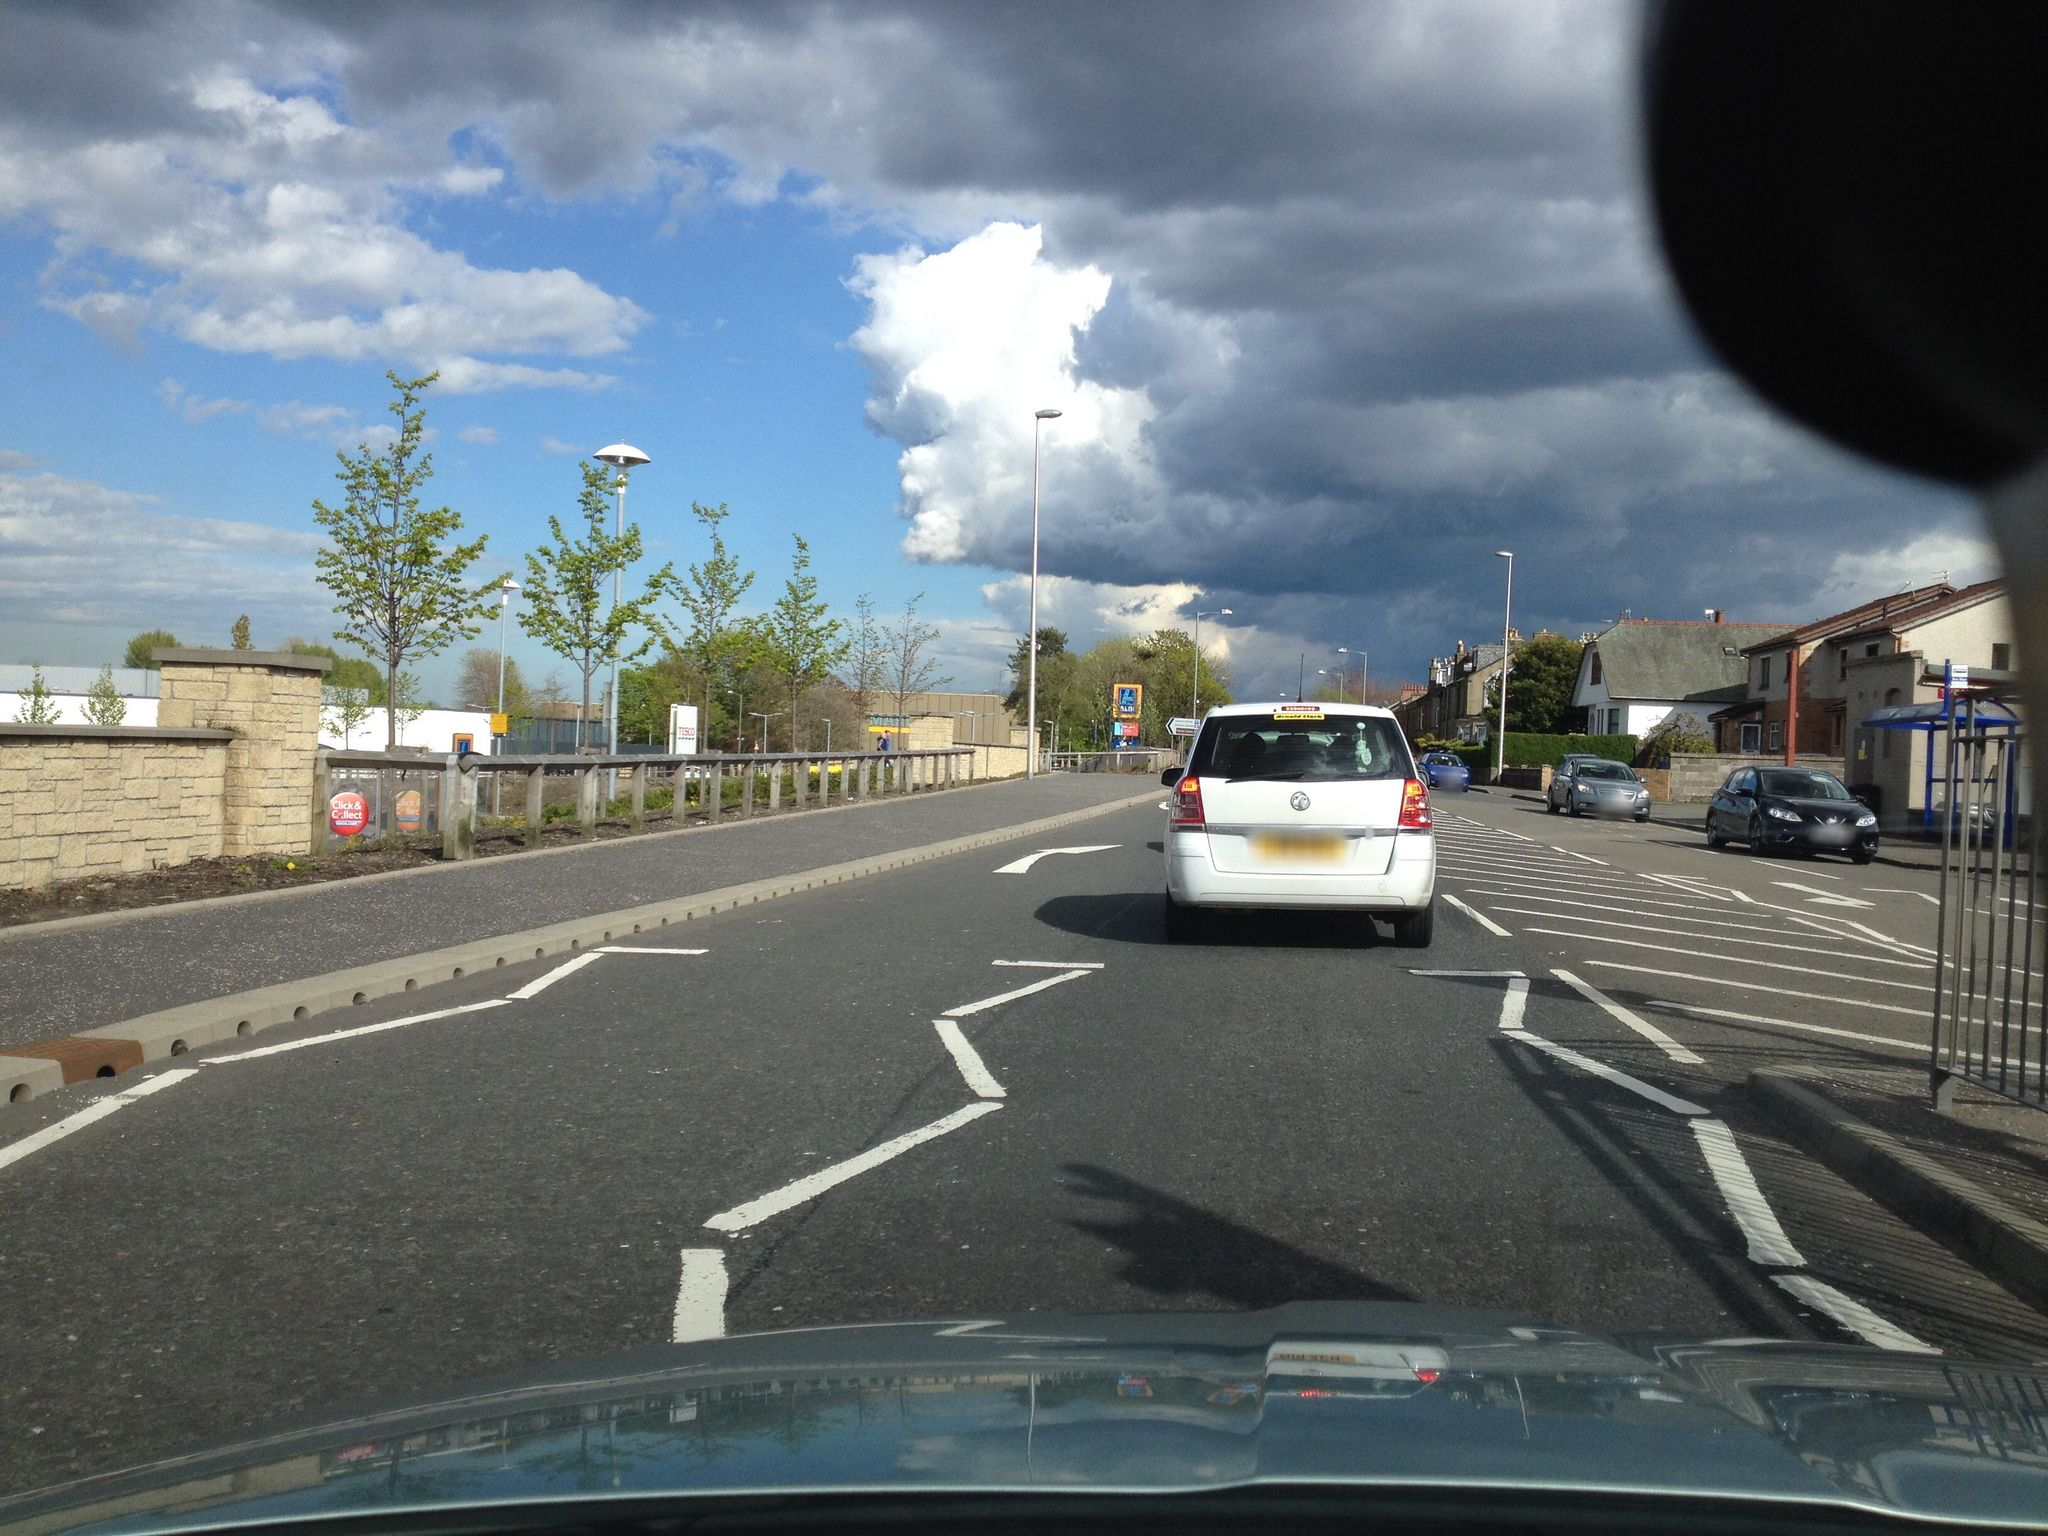car: (1158, 703, 1438, 947), (1705, 765, 1880, 865), (1546, 758, 1651, 824), (1417, 752, 1471, 792)
